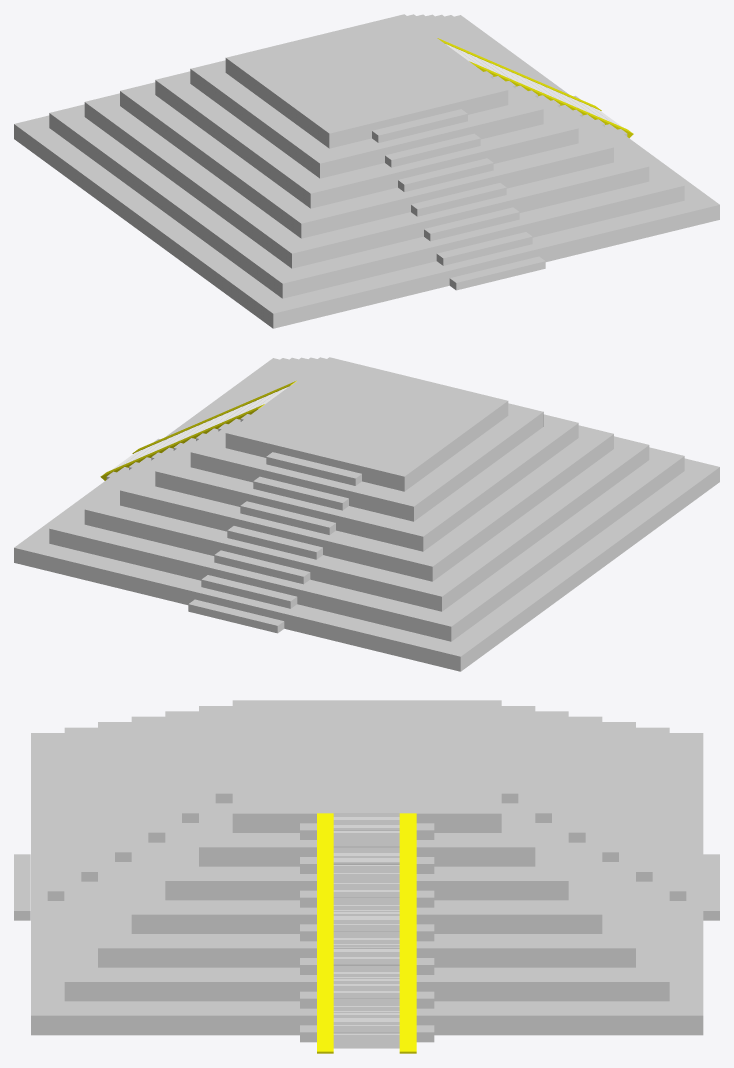
Rendered from aztecPyramid.glb.
3 renders of one model, top to bottom at view 1: azimuth 30°, elevation 25°; view 2: azimuth 150°, elevation 25°; view 3: azimuth 270°, elevation 25°, orthographic. The views are drawn at different scales.
Visible parts, largest first — view 1: Stair; view 2: Stair; view 3: Stair.
Boxes of the visible parts, x1=… form: Stair: x1=14, y1=14, x2=719, y2=328; Stair: x1=14, y1=357, x2=719, y2=671; Stair: x1=14, y1=700, x2=719, y2=1053.
Bounding box in the file's own units: 27.31 × 6.2 × 27.34.
